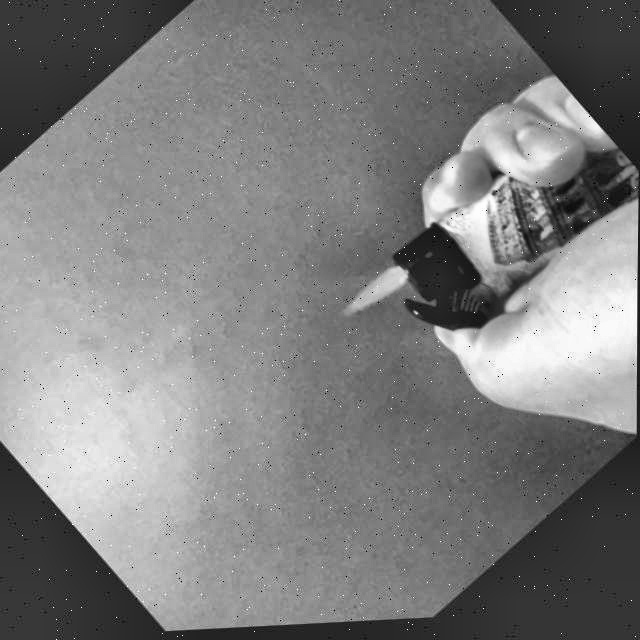Fire: (340, 260, 414, 332)
